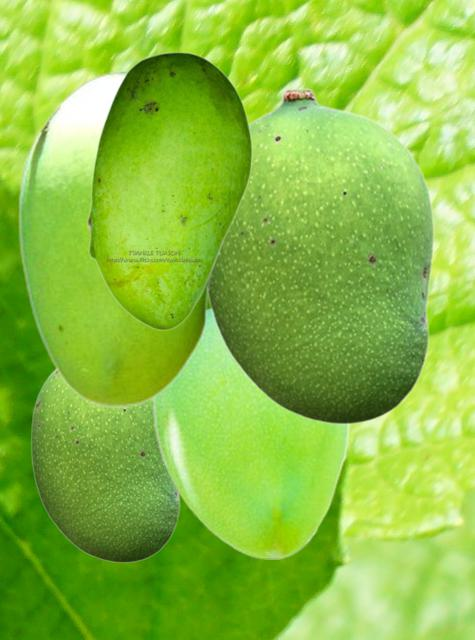green_mango: (209, 87, 433, 424), (17, 69, 225, 406), (152, 309, 349, 558), (86, 51, 252, 330), (30, 369, 180, 562)
